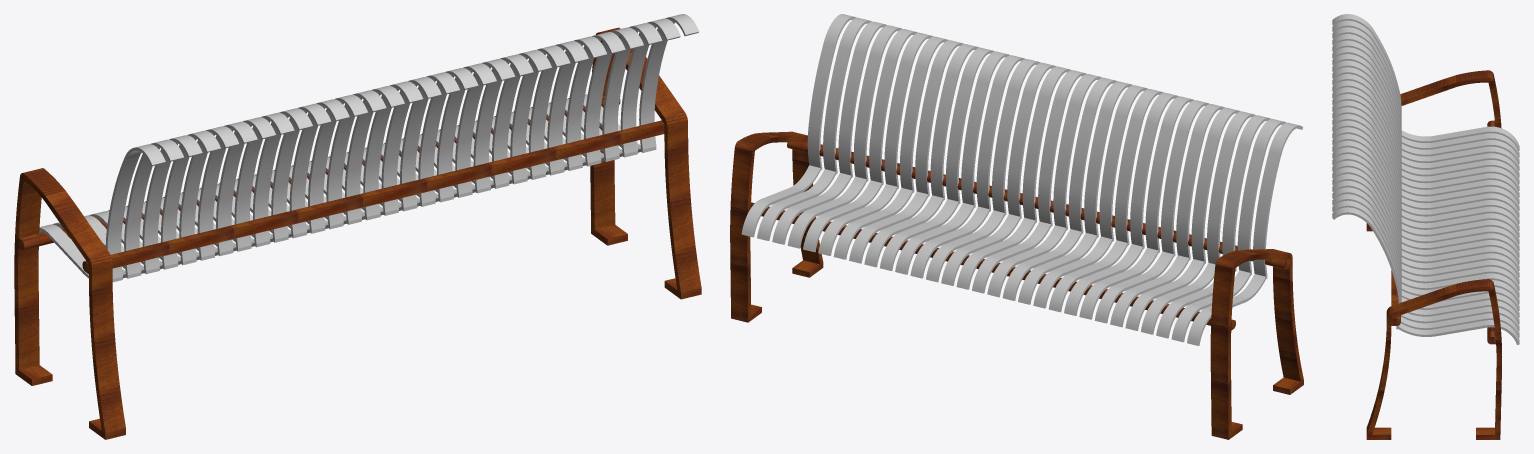
The picture shows the model from 3 angles, left to right: view 1: azimuth 30°, elevation 25°; view 2: azimuth 150°, elevation 25°; view 3: azimuth 270°, elevation 25°; orthographic projection. The views are drawn at different scales.
Parts seen in each view (by area): view 1: mesh3_mesh3-geometry, mesh4_mesh4-geometry, mesh2_mesh2-geometry, mesh1_mesh1-geometry; view 2: mesh3_mesh3-geometry, mesh4_mesh4-geometry, mesh2_mesh2-geometry, mesh1_mesh1-geometry; view 3: mesh3_mesh3-geometry, mesh4_mesh4-geometry, mesh2_mesh2-geometry, mesh1_mesh1-geometry.
Part boxes in pixels (x1,y1,x2,y2): mesh3_mesh3-geometry: [39, 14, 699, 282]; mesh4_mesh4-geometry: [14, 27, 701, 439]; mesh2_mesh2-geometry: [82, 120, 664, 273]; mesh1_mesh1-geometry: [18, 95, 620, 250]; mesh3_mesh3-geometry: [741, 14, 1302, 345]; mesh4_mesh4-geometry: [730, 131, 1303, 439]; mesh2_mesh2-geometry: [787, 141, 1289, 269]; mesh1_mesh1-geometry: [751, 202, 1235, 330]; mesh3_mesh3-geometry: [1332, 14, 1519, 344]; mesh4_mesh4-geometry: [1366, 70, 1501, 439]; mesh2_mesh2-geometry: [1391, 270, 1400, 325]; mesh1_mesh1-geometry: [1487, 120, 1495, 344].
Size of the model in its own units: 0.8589 by 0.4045 by 0.314.
